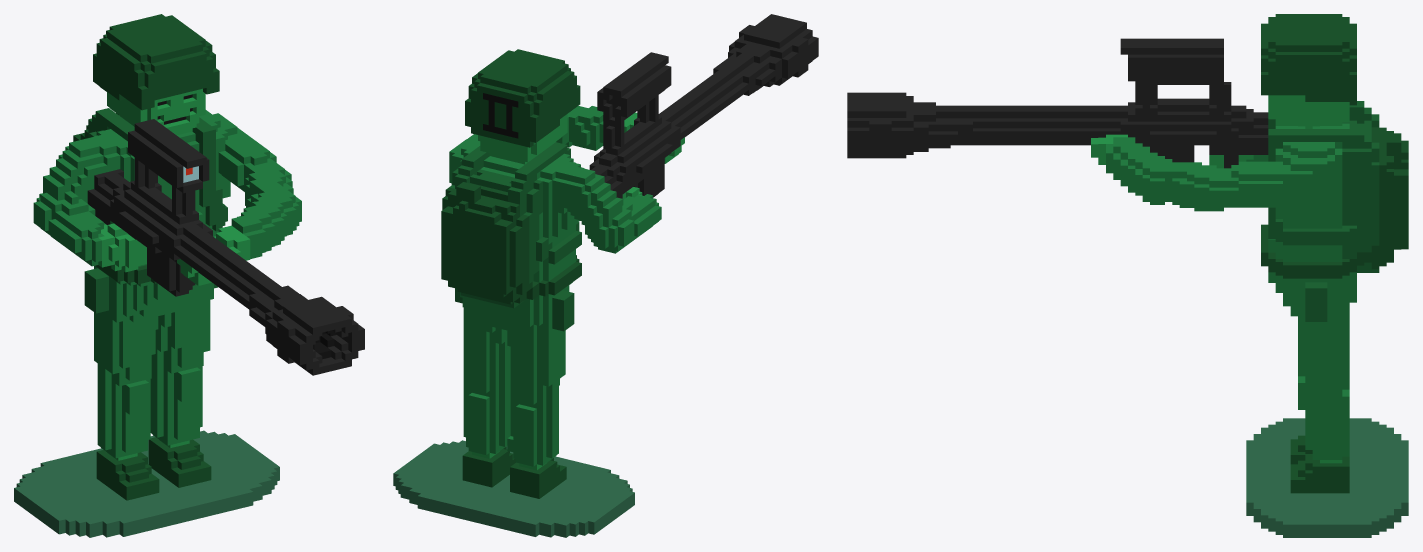
Rendered from snajper_soldier_LVL2_2.0.obj.
3 views of the same model, side by side, from view 1: azimuth 30°, elevation 25°; view 2: azimuth 150°, elevation 25°; view 3: azimuth 270°, elevation 25° (orthographic). The views are drawn at different scales.
Bounding box in the file's own units: 3.5 × 6.8 × 7.6.
1 material, 1 textured.
